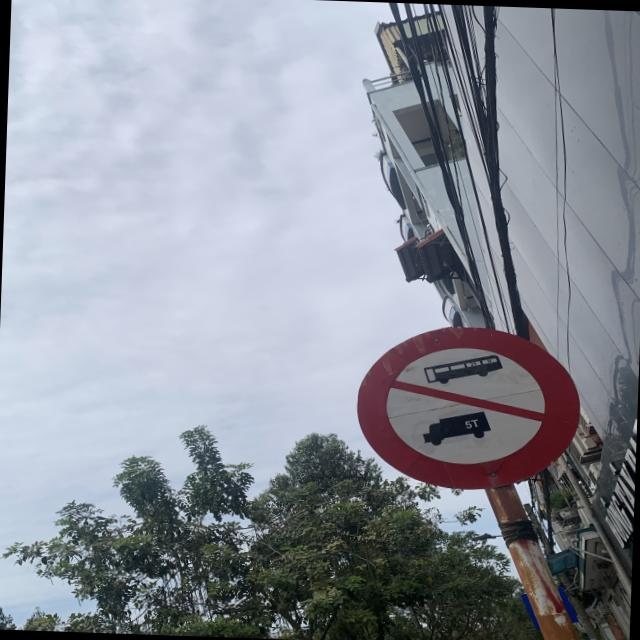Cam_XeTai_XeKhach: (350, 319, 582, 495)
